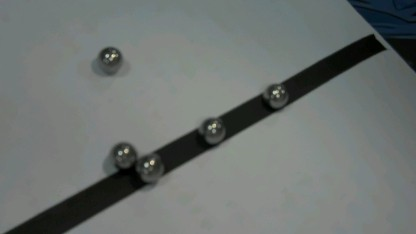ironball: (104, 136, 144, 174), (195, 110, 226, 146), (95, 38, 125, 75), (260, 80, 289, 116), (135, 154, 166, 181)
